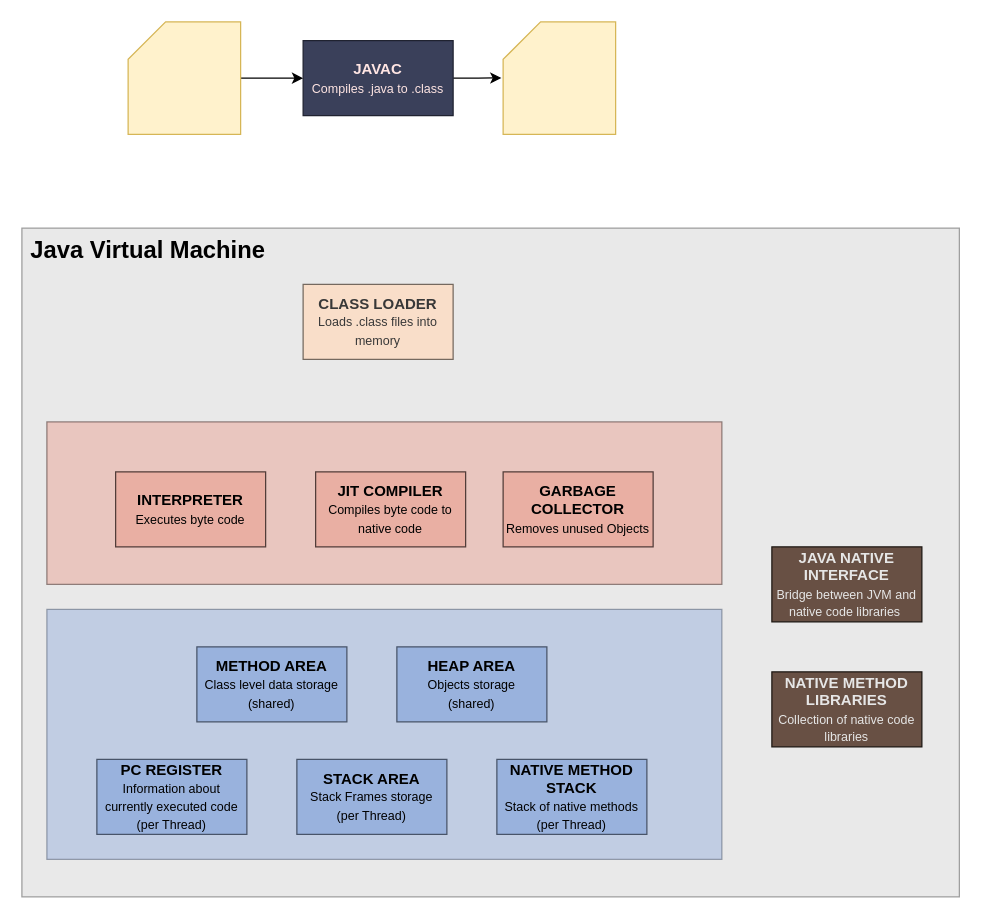
The diagram is 981 pixels wide and 919 high, and some of its shapes have lost their labels. The shapes that lost their labels are listed below. From the top down, each one's box as (x1, y1, x2, y2) in pixels, then its label:
(127, 21, 241, 134): .java human-readable
(502, 21, 616, 134): .class byte code, JVM readable
(46, 421, 722, 584): Execution Engine
(46, 608, 722, 859): Runtime Data Area
